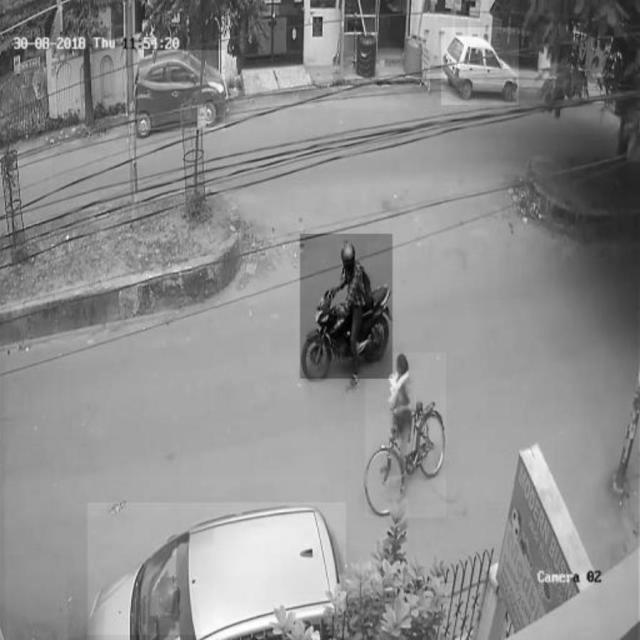vehicle: (88, 502, 346, 636), (365, 354, 446, 519), (300, 234, 392, 378), (138, 51, 226, 131), (442, 28, 519, 105)
